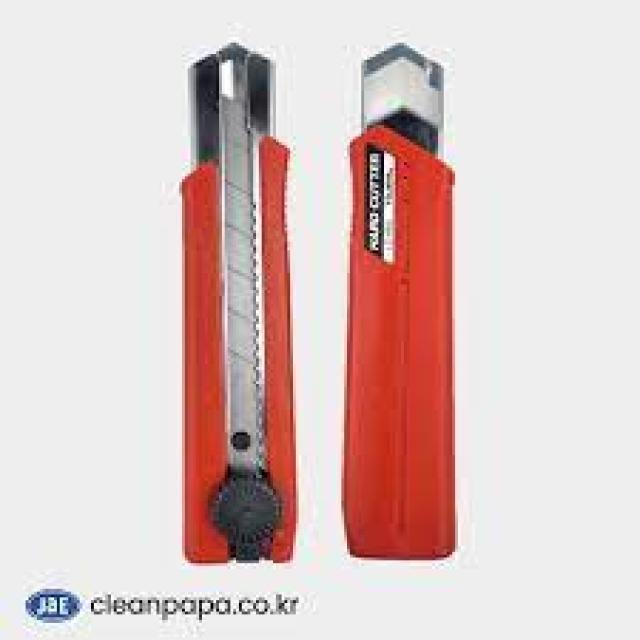cutter: (165, 34, 302, 571), (343, 38, 457, 568)
